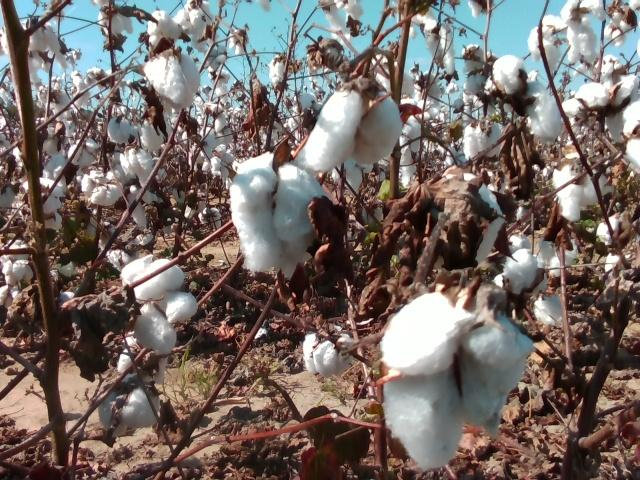cotton_ready: (380, 289, 535, 470), (230, 152, 329, 280), (292, 89, 403, 174), (120, 254, 197, 355), (482, 54, 562, 147), (428, 173, 505, 266), (0, 18, 69, 83), (144, 50, 201, 117), (553, 154, 610, 220), (562, 74, 639, 118), (98, 382, 159, 432), (412, 8, 457, 75), (493, 248, 549, 298), (560, 0, 604, 62), (118, 332, 167, 385), (303, 325, 354, 374), (598, 217, 640, 275), (528, 15, 567, 76), (606, 102, 640, 171), (23, 177, 66, 230), (172, 0, 215, 53), (372, 52, 415, 99), (534, 236, 579, 278), (111, 146, 155, 188), (397, 116, 422, 189), (463, 122, 507, 163), (325, 0, 363, 45), (81, 171, 124, 206), (0, 259, 29, 310), (332, 157, 374, 190), (147, 10, 183, 48), (462, 44, 488, 96), (141, 112, 173, 151), (534, 291, 566, 326), (604, 11, 634, 47), (37, 125, 70, 157), (98, 8, 135, 36), (129, 189, 154, 229), (42, 152, 76, 181), (68, 136, 99, 167), (400, 99, 439, 120), (213, 112, 236, 145), (197, 128, 219, 159), (108, 116, 130, 144)
